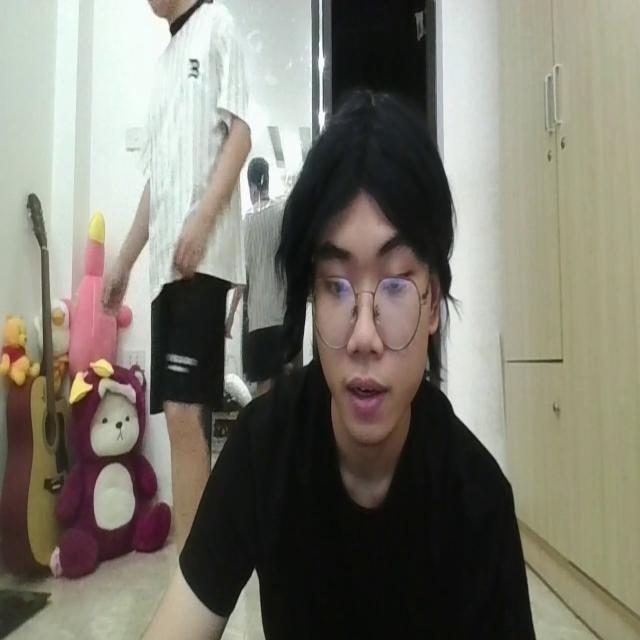extra_person: (96, 0, 254, 465)
student: (148, 90, 538, 640)
